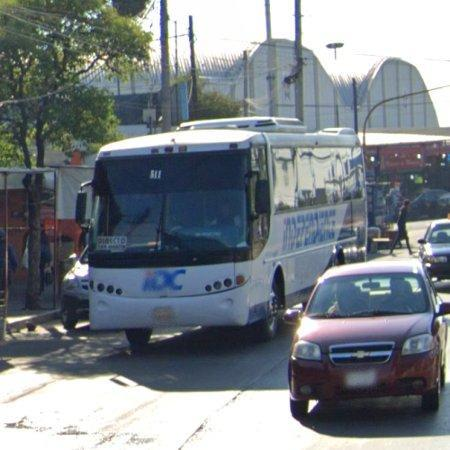buses: (90, 117, 365, 346)
